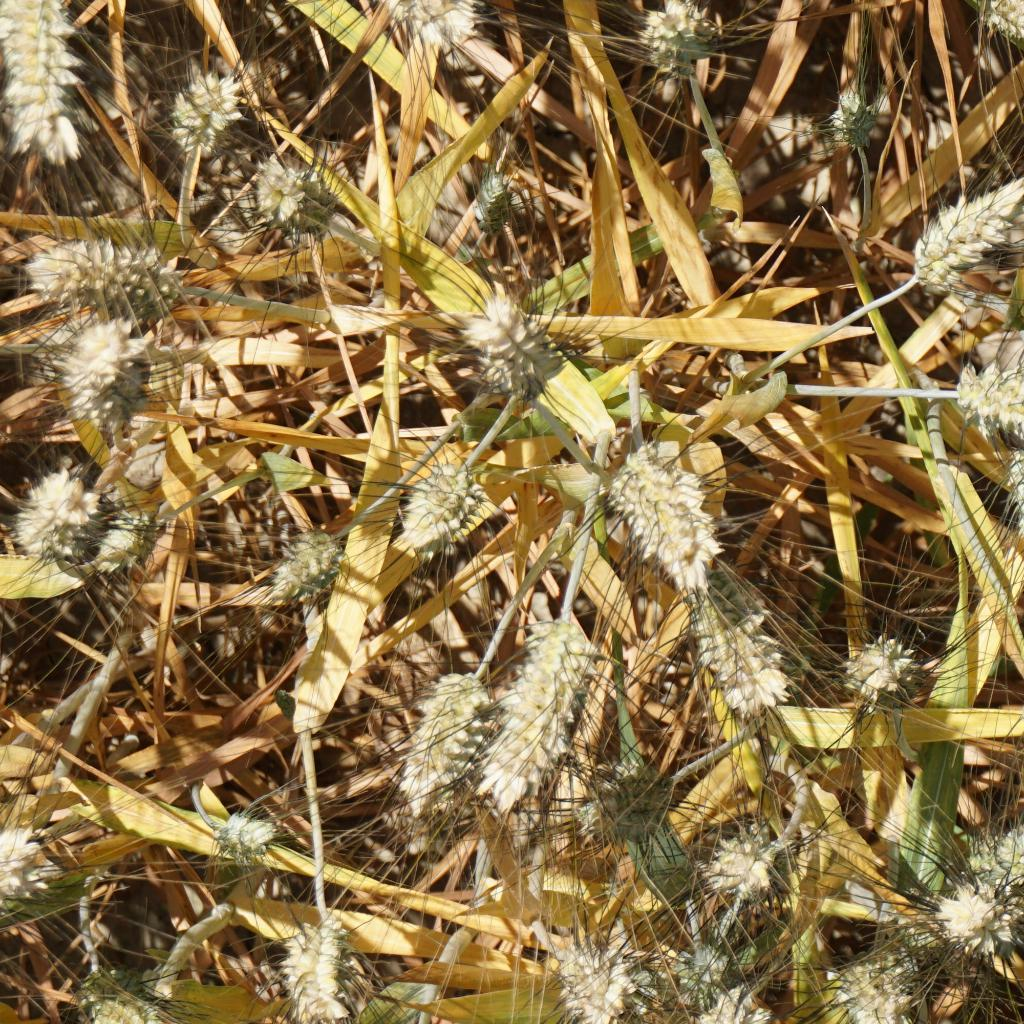0-0: (480, 608, 592, 787), (588, 446, 724, 592), (0, 0, 92, 181), (17, 226, 186, 311), (689, 581, 795, 712), (391, 659, 478, 809), (449, 286, 567, 393), (902, 181, 1021, 283), (830, 903, 927, 1021), (58, 316, 163, 417), (563, 768, 679, 858), (401, 444, 486, 561), (13, 460, 112, 559), (927, 354, 1024, 449), (838, 630, 943, 714), (277, 909, 364, 1008), (929, 862, 1012, 963), (539, 931, 629, 1024), (633, 0, 728, 80), (155, 65, 232, 157), (83, 507, 175, 579), (700, 815, 781, 896), (65, 956, 158, 1024), (271, 518, 346, 594), (370, 0, 476, 53), (468, 147, 525, 240), (244, 149, 316, 222), (821, 82, 888, 157), (966, 805, 1024, 888), (212, 805, 281, 862), (671, 943, 732, 1004), (0, 842, 43, 925), (958, 0, 1024, 49), (1004, 451, 1024, 555)
